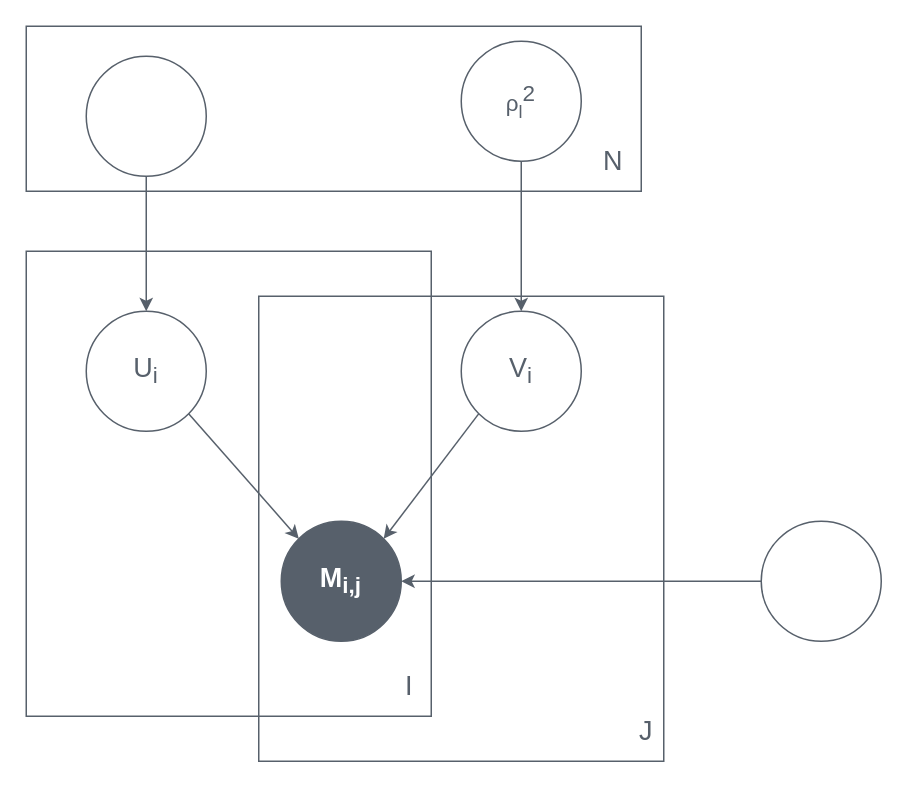
The diagram is 908 pixels wide and 788 high, and some of its shapes have lost their labels. The centre of each missing label's shape, as x and y in pixels:
σ l 2: point (145, 115)
τ 2: point (820, 580)
